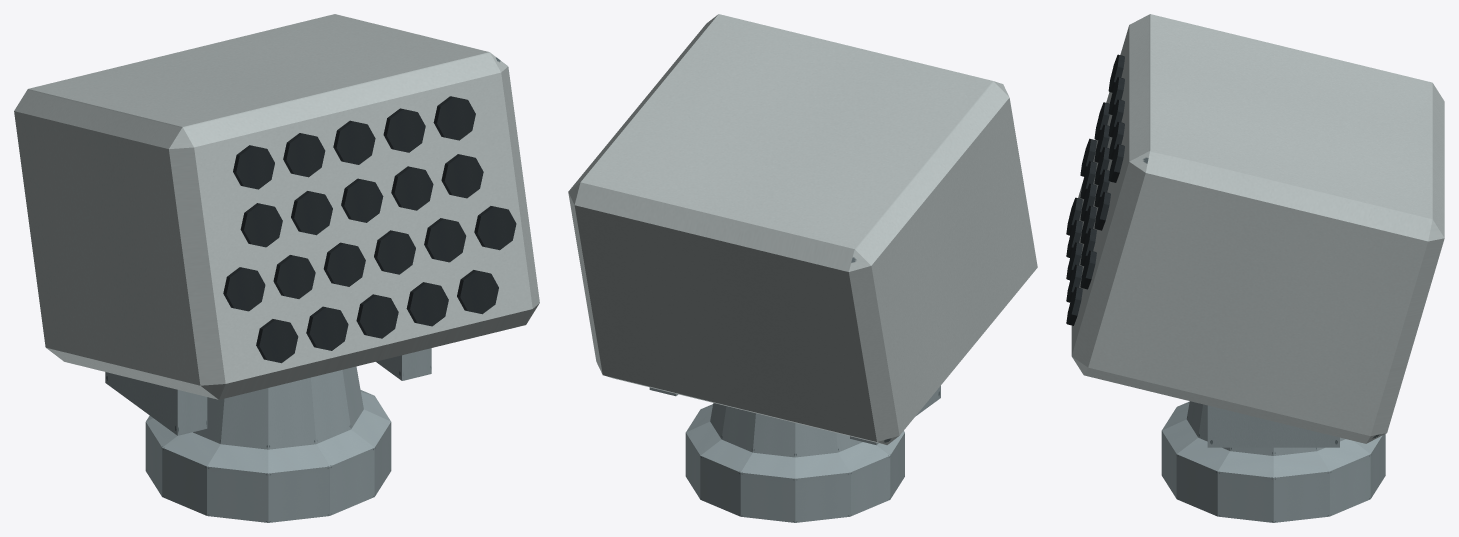
Rendered from mount_gepard_pdms.glb.
3 renders of one model, left to right at view 1: azimuth 30°, elevation 25°; view 2: azimuth 150°, elevation 25°; view 3: azimuth 270°, elevation 25°, orthographic. The views are drawn at different scales.
Parts seen in each view (by area): view 1: MESH_GEPARD_TEMPLATE_pdms.004; view 2: MESH_GEPARD_TEMPLATE_pdms.004; view 3: MESH_GEPARD_TEMPLATE_pdms.004.
Part boxes in pixels (x1,y1,x2,y2): MESH_GEPARD_TEMPLATE_pdms.004: (14,14,539,522); MESH_GEPARD_TEMPLATE_pdms.004: (568,14,1037,522); MESH_GEPARD_TEMPLATE_pdms.004: (1066,14,1444,522).
Size of the model in its own units: 3.99 by 4.84 by 4.22.
1 material, 1 textured.
